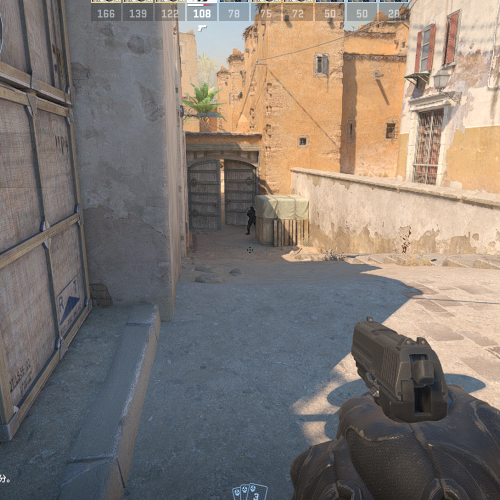ct_body: (245, 205, 256, 235)
